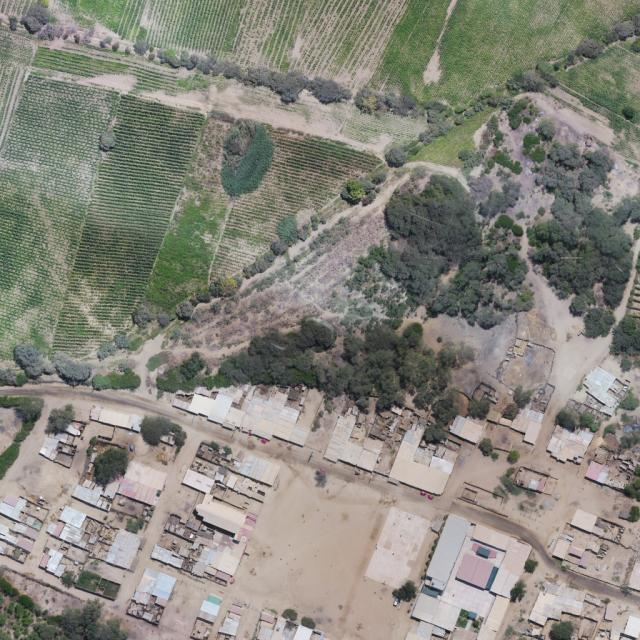agricultural_land: (159, 85, 382, 288), (142, 115, 257, 322), (30, 44, 189, 101), (341, 105, 426, 152)
building: (150, 433, 281, 589), (172, 374, 325, 448), (48, 503, 147, 574), (388, 421, 461, 497), (324, 401, 394, 475), (423, 512, 471, 584), (125, 565, 177, 627), (575, 363, 632, 418), (0, 495, 42, 562), (116, 458, 170, 509), (544, 420, 594, 469), (410, 592, 461, 633), (38, 425, 83, 468), (506, 403, 547, 445), (89, 405, 143, 431), (70, 483, 115, 513), (447, 414, 485, 445), (258, 611, 295, 640), (37, 546, 71, 577), (150, 544, 186, 569), (570, 508, 598, 534), (585, 460, 611, 485), (93, 480, 122, 501), (619, 613, 640, 640), (428, 455, 455, 475), (414, 445, 434, 466), (551, 538, 570, 560), (416, 621, 435, 639), (592, 445, 610, 464), (577, 551, 593, 569), (442, 449, 459, 465), (428, 578, 447, 591), (65, 422, 83, 435), (585, 540, 601, 553), (431, 625, 447, 637), (433, 445, 446, 459), (569, 546, 583, 557), (82, 478, 93, 489)
dryland: (165, 209, 414, 403), (479, 276, 617, 413), (422, 315, 518, 394), (336, 487, 395, 585), (365, 507, 431, 592), (254, 426, 333, 494), (444, 440, 511, 507), (497, 336, 557, 398), (378, 484, 454, 522)
greenland: (360, 154, 551, 358), (185, 315, 476, 401), (124, 25, 244, 87), (219, 118, 277, 199), (243, 66, 351, 108), (351, 84, 448, 127), (152, 350, 210, 398), (20, 14, 94, 50), (136, 411, 190, 453), (45, 349, 95, 391), (417, 107, 455, 150), (430, 386, 470, 426), (0, 396, 44, 427), (13, 343, 46, 380), (376, 369, 405, 409), (583, 306, 617, 339), (409, 381, 439, 412), (465, 392, 493, 422), (575, 409, 603, 436), (421, 421, 449, 446), (509, 384, 534, 411), (554, 406, 581, 431), (97, 34, 121, 52), (0, 367, 16, 386), (14, 428, 30, 444), (455, 114, 465, 123)
unmetalled_road: (449, 496, 551, 554), (562, 568, 622, 601)
